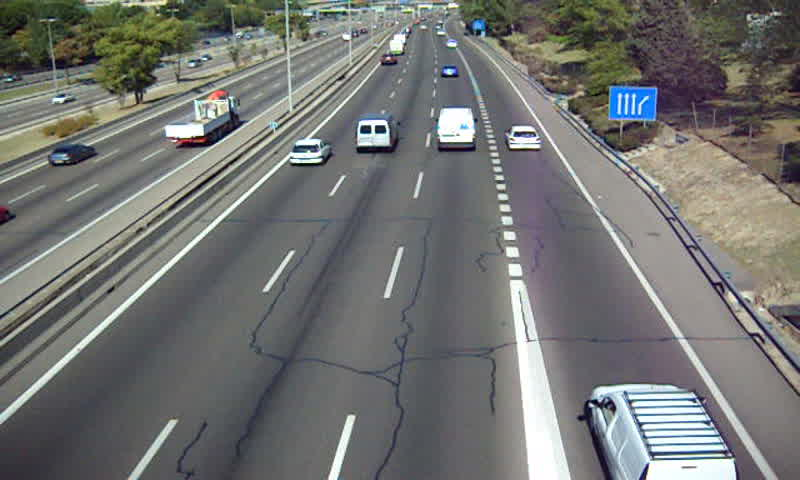car: (290, 138, 330, 164), (506, 124, 541, 150), (440, 64, 459, 80)
van: (591, 383, 737, 480), (436, 107, 477, 150), (356, 113, 400, 152)
